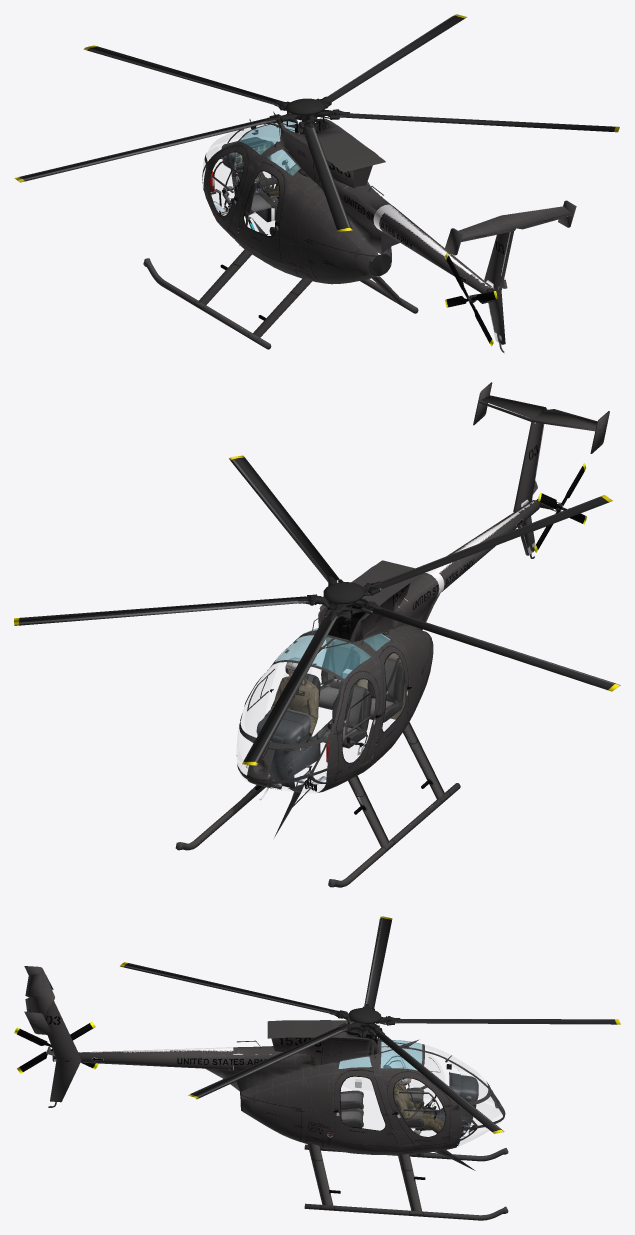
The picture shows the model from 3 angles, top to bottom: view 1: azimuth 30°, elevation 25°; view 2: azimuth 150°, elevation 25°; view 3: azimuth 270°, elevation 25°; orthographic projection. The views are drawn at different scales.
Parts seen in each view (by area): view 1: ext_fuselage1, rotor_main, ext_tail, ext_fuselage2, int_seats1, int_console, glasss_grn, rotor_tail, glass; view 2: rotor_main, ext_fuselage1, ext_fuselage2, ext_tail, int_seats1, int_console, glasss_grn, int_pilotR, glass, rotor_tail; view 3: ext_fuselage1, rotor_main, ext_tail, ext_fuselage2, int_seats1, glass, glasss_grn, int_pilotR, int_console, rotor_tail.
Part boxes in pixels (left/top/right/bottom): ext_fuselage1: left=202, top=111, right=391, bottom=278; rotor_main: left=14, top=14, right=619, bottom=231; ext_tail: left=344, top=183, right=576, bottom=353; ext_fuselage2: left=143, top=118, right=418, bottom=349; int_seats1: left=213, top=119, right=289, bottom=235; int_console: left=210, top=137, right=278, bottom=222; glasss_grn: left=239, top=121, right=299, bottom=175; rotor_tail: left=444, top=253, right=497, bottom=346; glass: left=203, top=125, right=275, bottom=214; rotor_main: left=14, top=455, right=620, bottom=765; ext_fuselage1: left=236, top=579, right=439, bottom=837; ext_fuselage2: left=175, top=560, right=460, bottom=887; ext_tail: left=404, top=382, right=609, bottom=621; int_seats1: left=245, top=634, right=411, bottom=791; int_console: left=256, top=706, right=329, bottom=788; glasss_grn: left=275, top=628, right=389, bottom=678; int_pilotR: left=269, top=657, right=318, bottom=772; glass: left=237, top=663, right=311, bottom=792; rotor_tail: left=534, top=463, right=586, bottom=552; ext_fuselage1: left=233, top=1027, right=495, bottom=1170; rotor_main: left=120, top=916, right=620, bottom=1133; ext_tail: left=24, top=966, right=281, bottom=1107; ext_fuselage2: left=240, top=1020, right=508, bottom=1220; int_seats1: left=333, top=1055, right=472, bottom=1145; glass: left=343, top=1045, right=500, bottom=1146; glasss_grn: left=338, top=1040, right=422, bottom=1070; int_pilotR: left=393, top=1067, right=463, bottom=1138; int_console: left=415, top=1072, right=478, bottom=1135; rotor_tail: left=14, top=1022, right=98, bottom=1073.
Bounding box in the file's own units: 7.48 × 3.44 × 9.23.
Materials: 9 (8 with a texture image).
